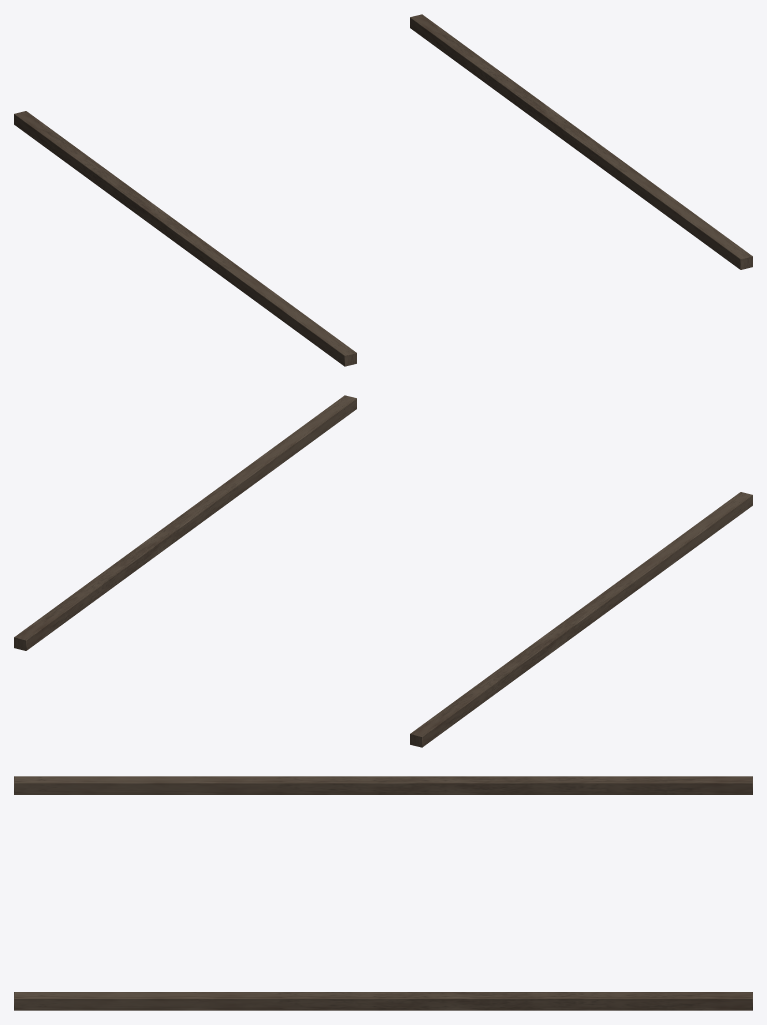
Rendered from BW_Chapel01_Timber.fbx.
The picture shows the model from 3 angles, top to bottom: view 1: azimuth 30°, elevation 25°; view 2: azimuth 150°, elevation 25°; view 3: azimuth 270°, elevation 25°; orthographic projection. The views are drawn at different scales.
Visible parts, largest first — view 1: BW_Chapel01_Timber; view 2: BW_Chapel01_Timber; view 3: BW_Chapel01_Timber.
Boxes of the visible parts, x1=… form: BW_Chapel01_Timber: x1=14, y1=14, x2=752, y2=366; BW_Chapel01_Timber: x1=14, y1=395, x2=752, y2=747; BW_Chapel01_Timber: x1=14, y1=776, x2=752, y2=1010.
Bounding box in the file's own units: 7.84 × 0.2 × 11.
